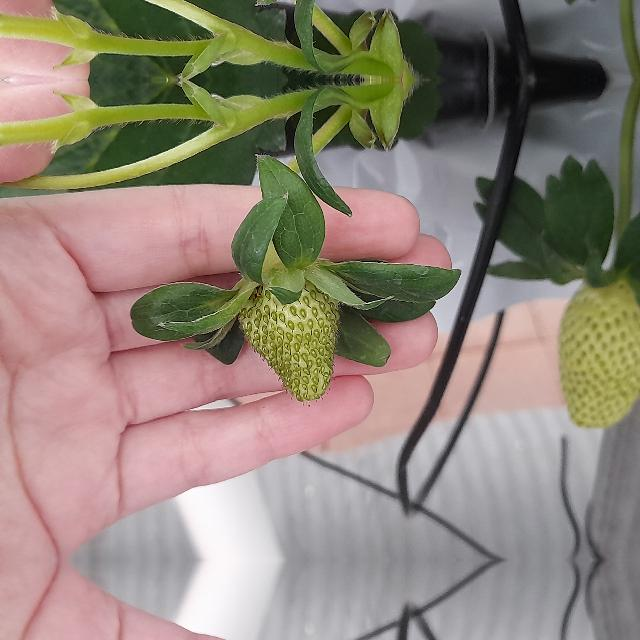Health_25: (557, 272, 639, 428), (238, 277, 340, 401)
